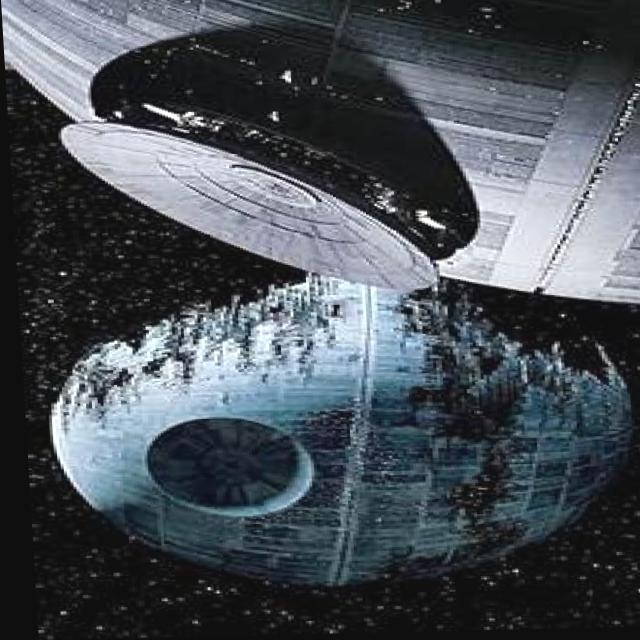deathStar: (27, 252, 640, 599)
